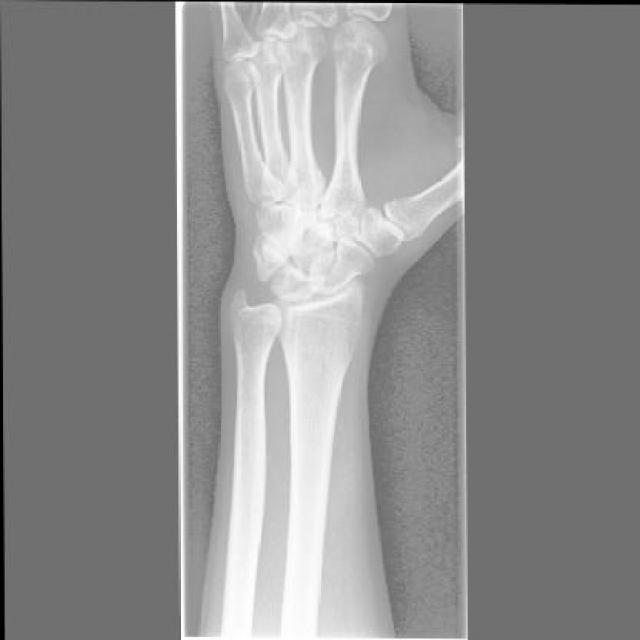Fracture: (290, 202, 324, 241)
